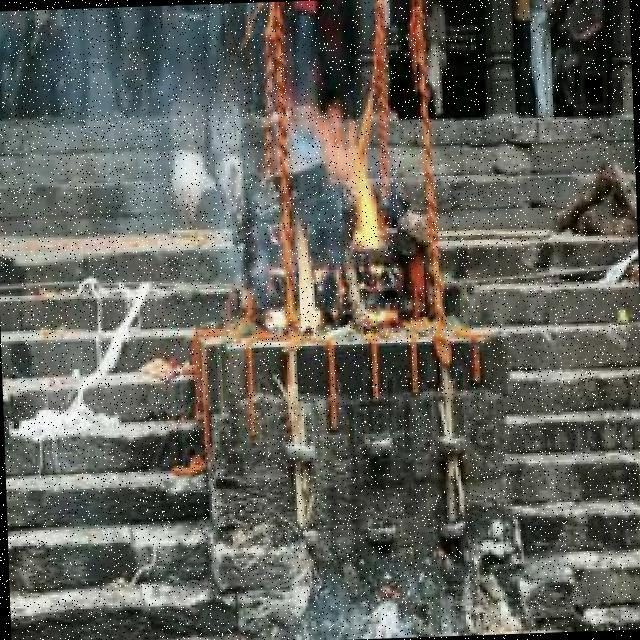Fire: (316, 100, 390, 255), (277, 216, 339, 332)
